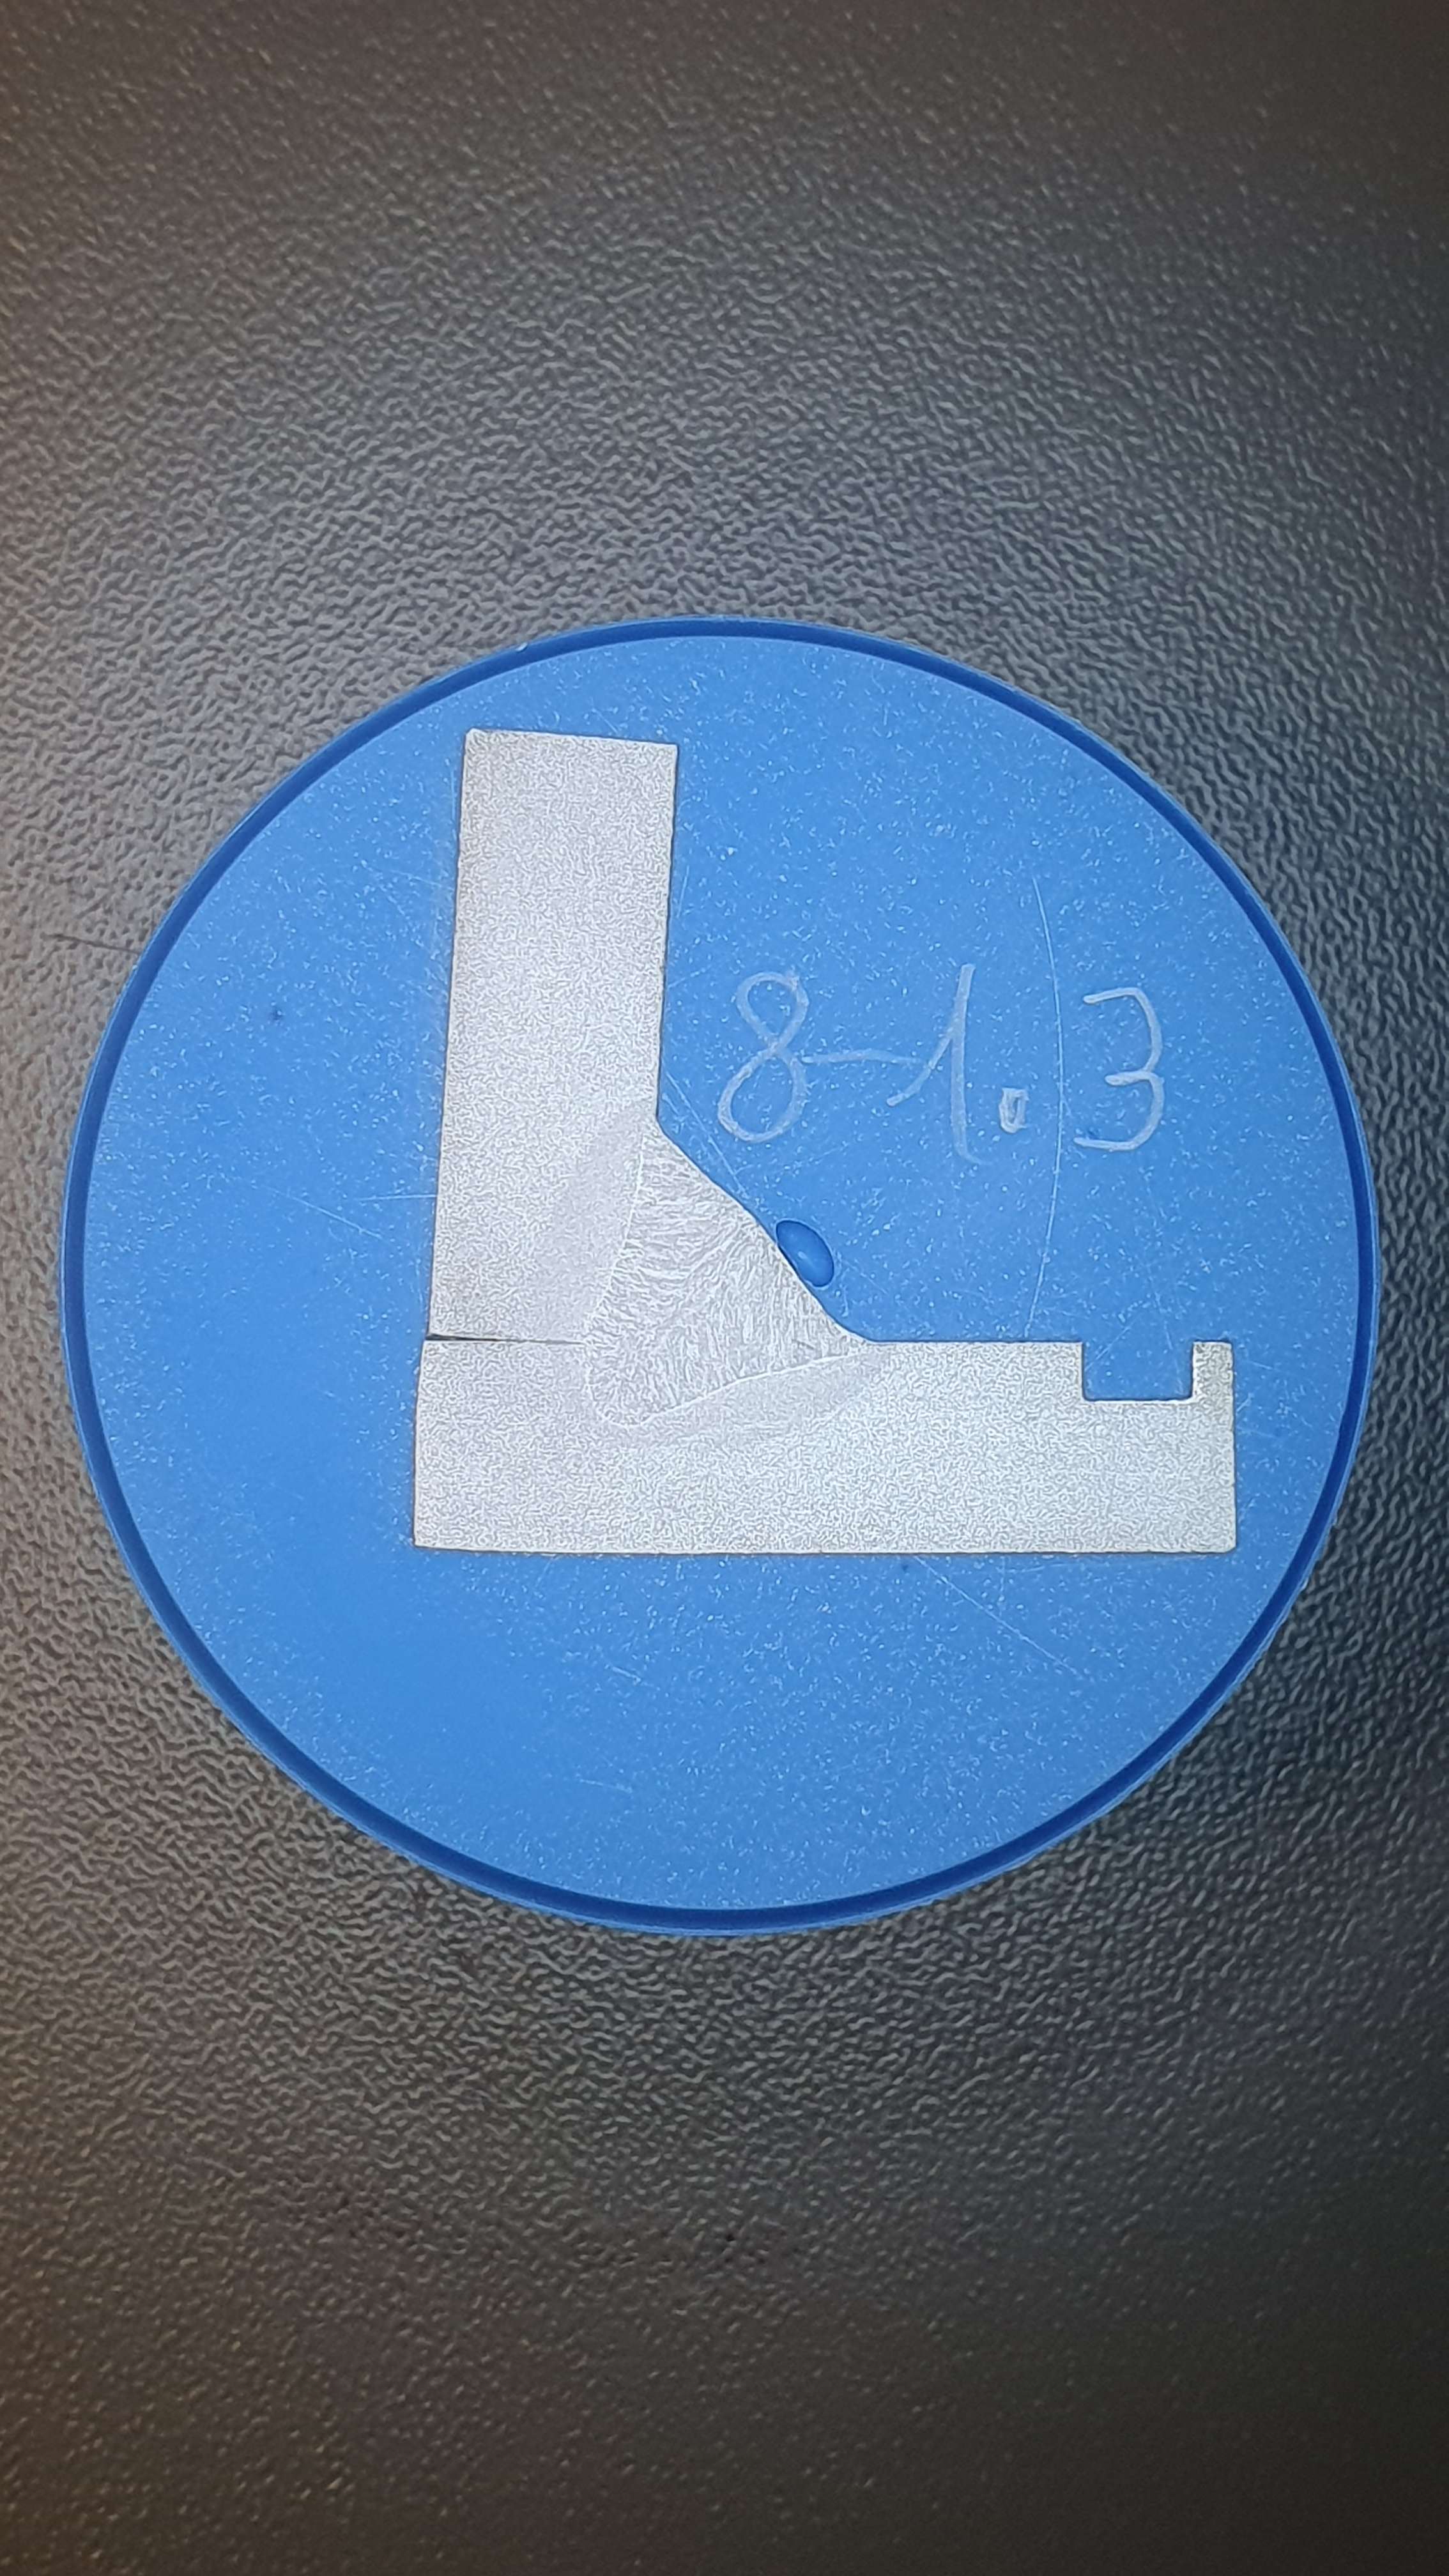Fusion: (568, 1118, 867, 1426)
Hintergrund: (81, 637, 1357, 1909)
Metall: (412, 727, 1237, 1555)
Nebenbereich: (520, 1095, 899, 1454)
